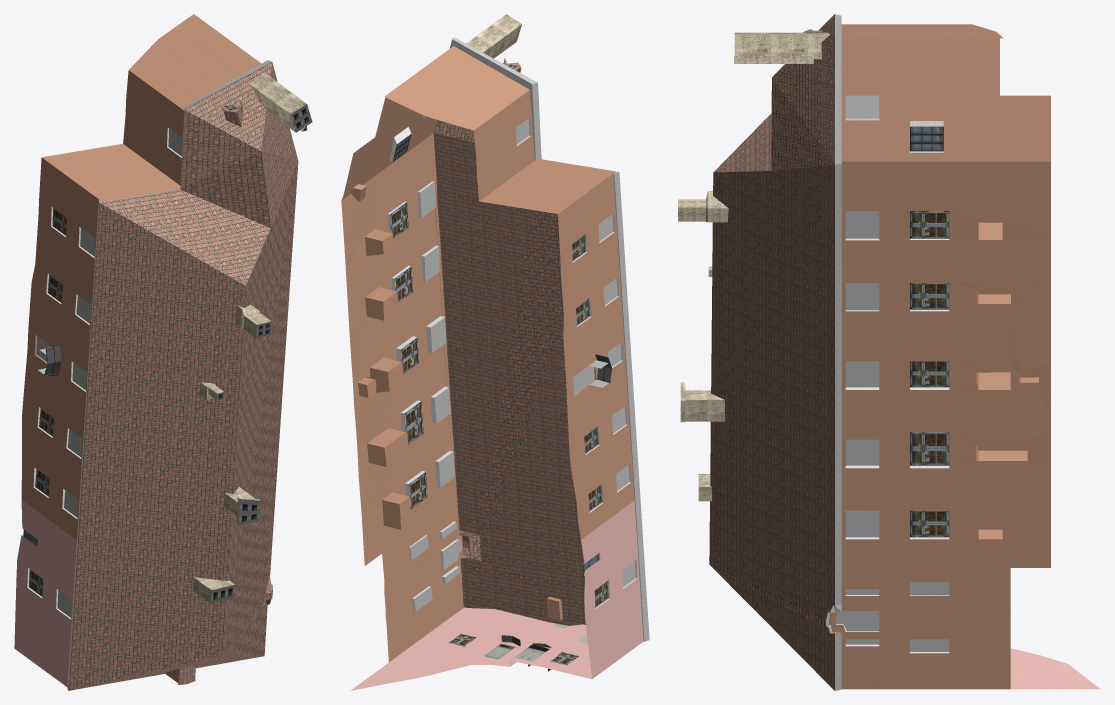
File: Kohtu_12-origo.obj
3 views of the same model, side by side, from view 1: azimuth 30°, elevation 25°; view 2: azimuth 150°, elevation 25°; view 3: azimuth 270°, elevation 25° (orthographic). The views are drawn at different scales.
Parts seen in each view (by area): view 1: Kohtu_12; view 2: Kohtu_12; view 3: Kohtu_12.
Part boxes in pixels (x1,y1,x2,y2): Kohtu_12: (14, 14, 312, 690); Kohtu_12: (341, 14, 649, 690); Kohtu_12: (678, 14, 1100, 690).
Bounding box in the file's own units: 18.31 × 45.5 × 26.02.
